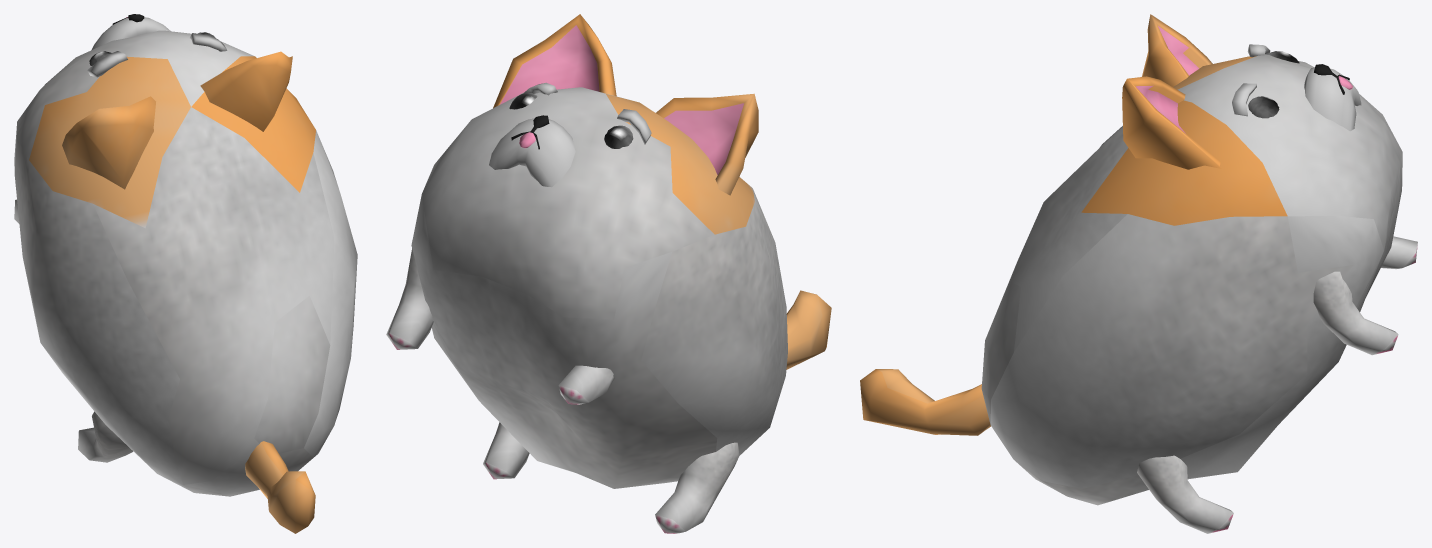
Rendered from H_DogPlushie.fbx.
3 renders of one model, left to right at view 1: azimuth 30°, elevation 25°; view 2: azimuth 150°, elevation 25°; view 3: azimuth 270°, elevation 25°, orthographic. The views are drawn at different scales.
Visible parts, largest first — view 1: DogPlushie; view 2: DogPlushie; view 3: DogPlushie.
Boxes of the visible parts, x1=… form: DogPlushie: x1=14, y1=14, x2=357, y2=533; DogPlushie: x1=386, y1=14, x2=831, y2=533; DogPlushie: x1=860, y1=14, x2=1417, y2=533.
Bounding box in the file's own units: 48.58 × 68 × 76.75.
